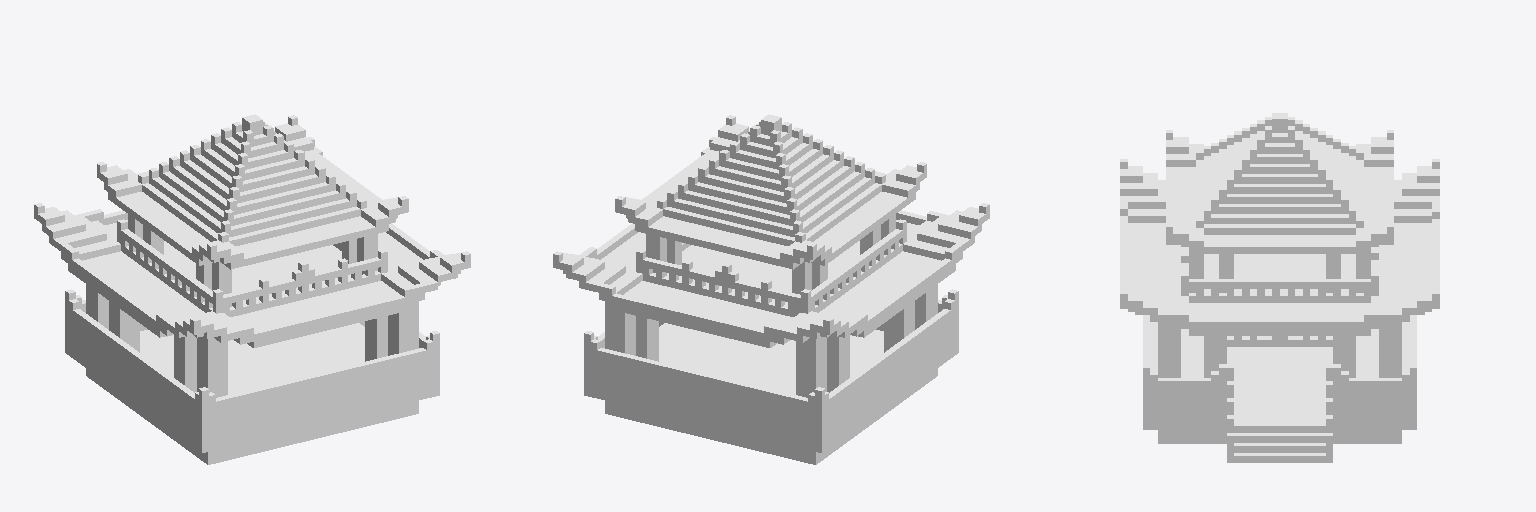
The model's file is BauwerkChina.obj.
3 renders of one model, left to right at view 1: azimuth 30°, elevation 25°; view 2: azimuth 150°, elevation 25°; view 3: azimuth 270°, elevation 25°, orthographic.
Size of the model in its own units: 43 by 40 by 42.